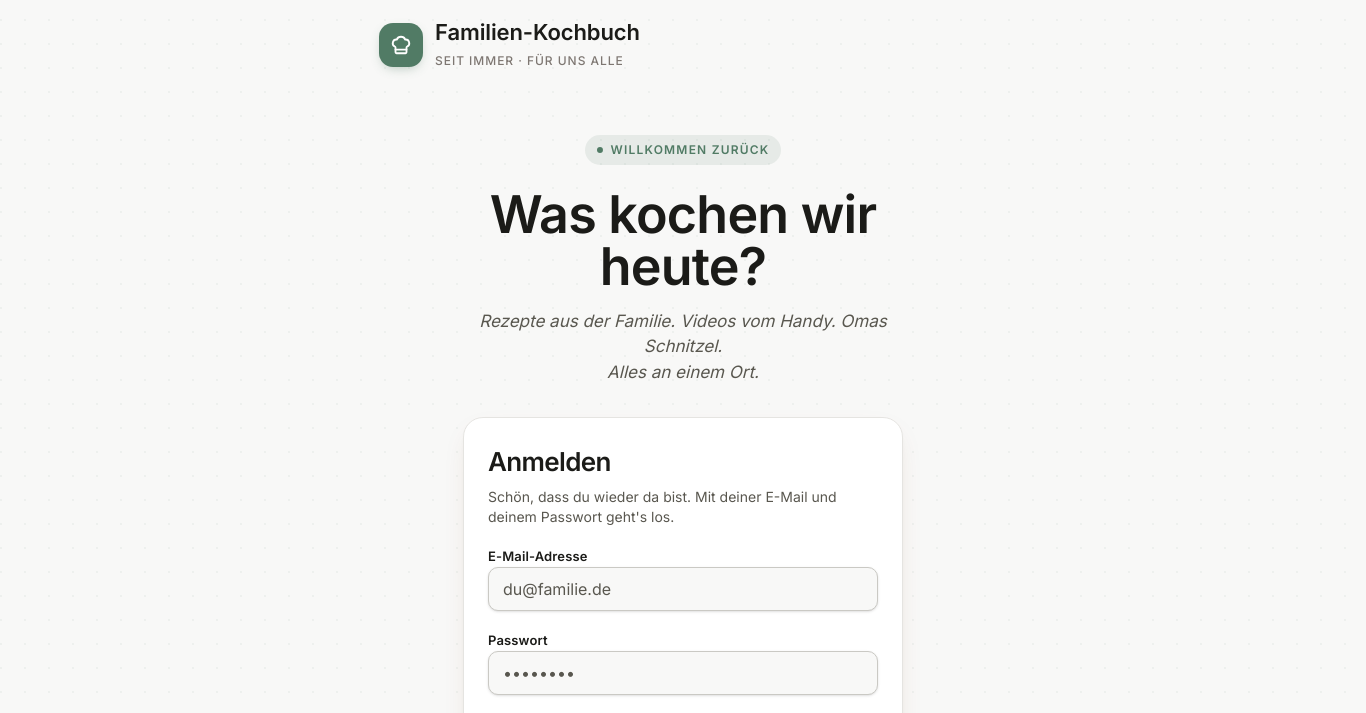
Scenario: <LoginPage /> › shows a German error when submitted with an invalid email format
Type "not-an-email" into the field labelled "E-Mail-Adresse". click: (683, 589)
box: [488,567,878,611]
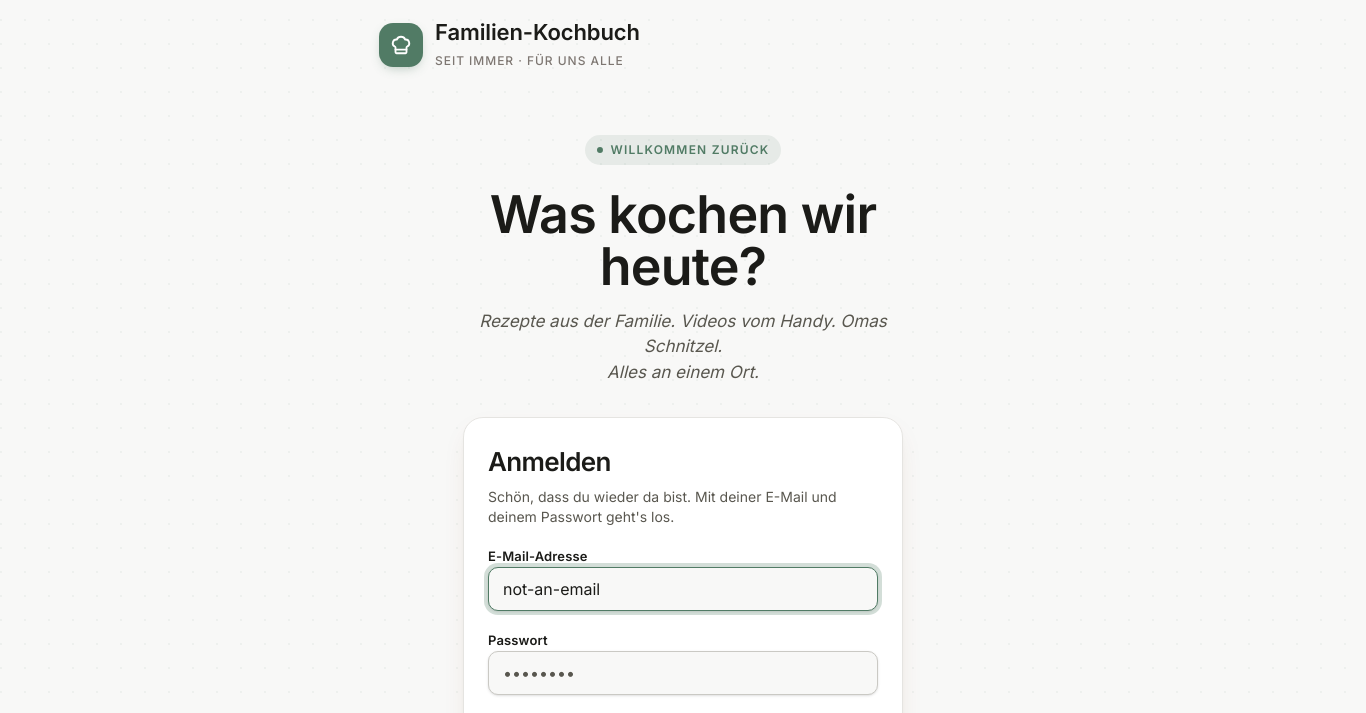
Type "geheim123" into the password field labelled "Passwort". click: (683, 673)
box: [488,651,878,695]
(page scrolled)
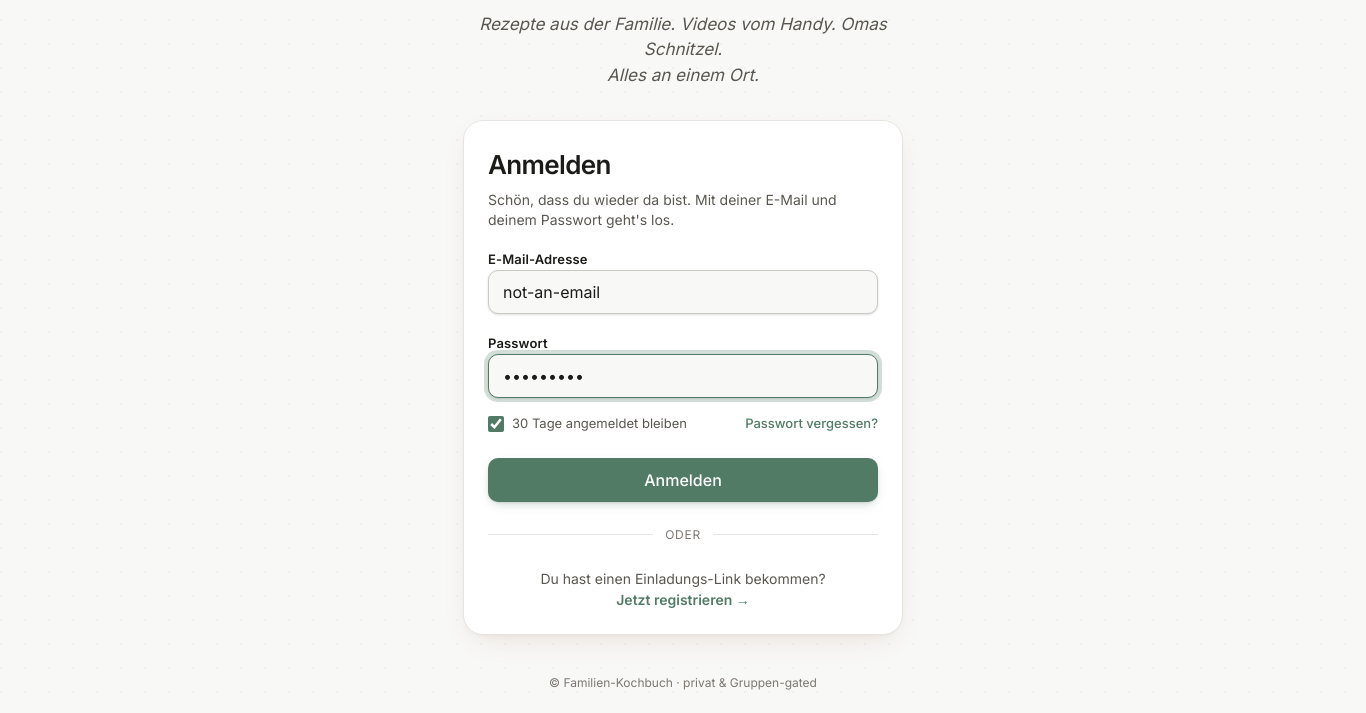
Click the button "Anmelden". click: (683, 480)
box: [488,458,878,502]
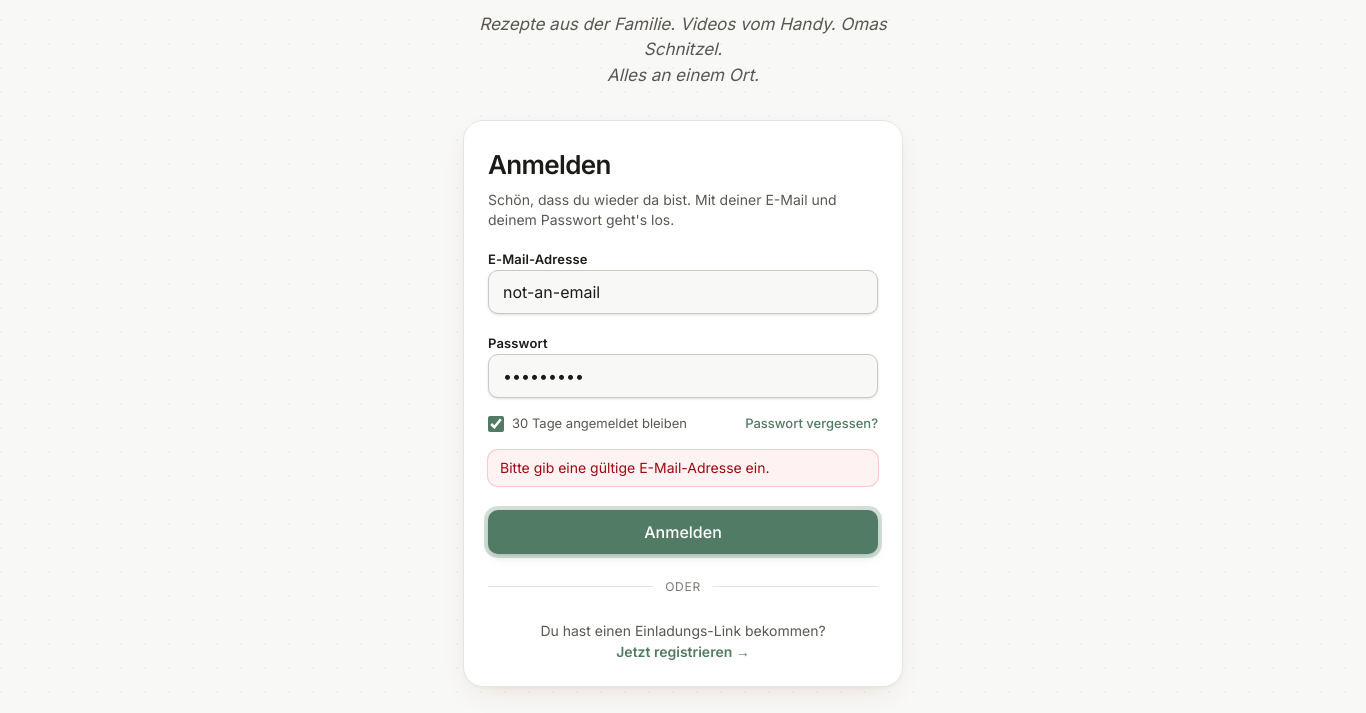
Check: the message shows "gültige E-Mail", box [500,458,770,476]
